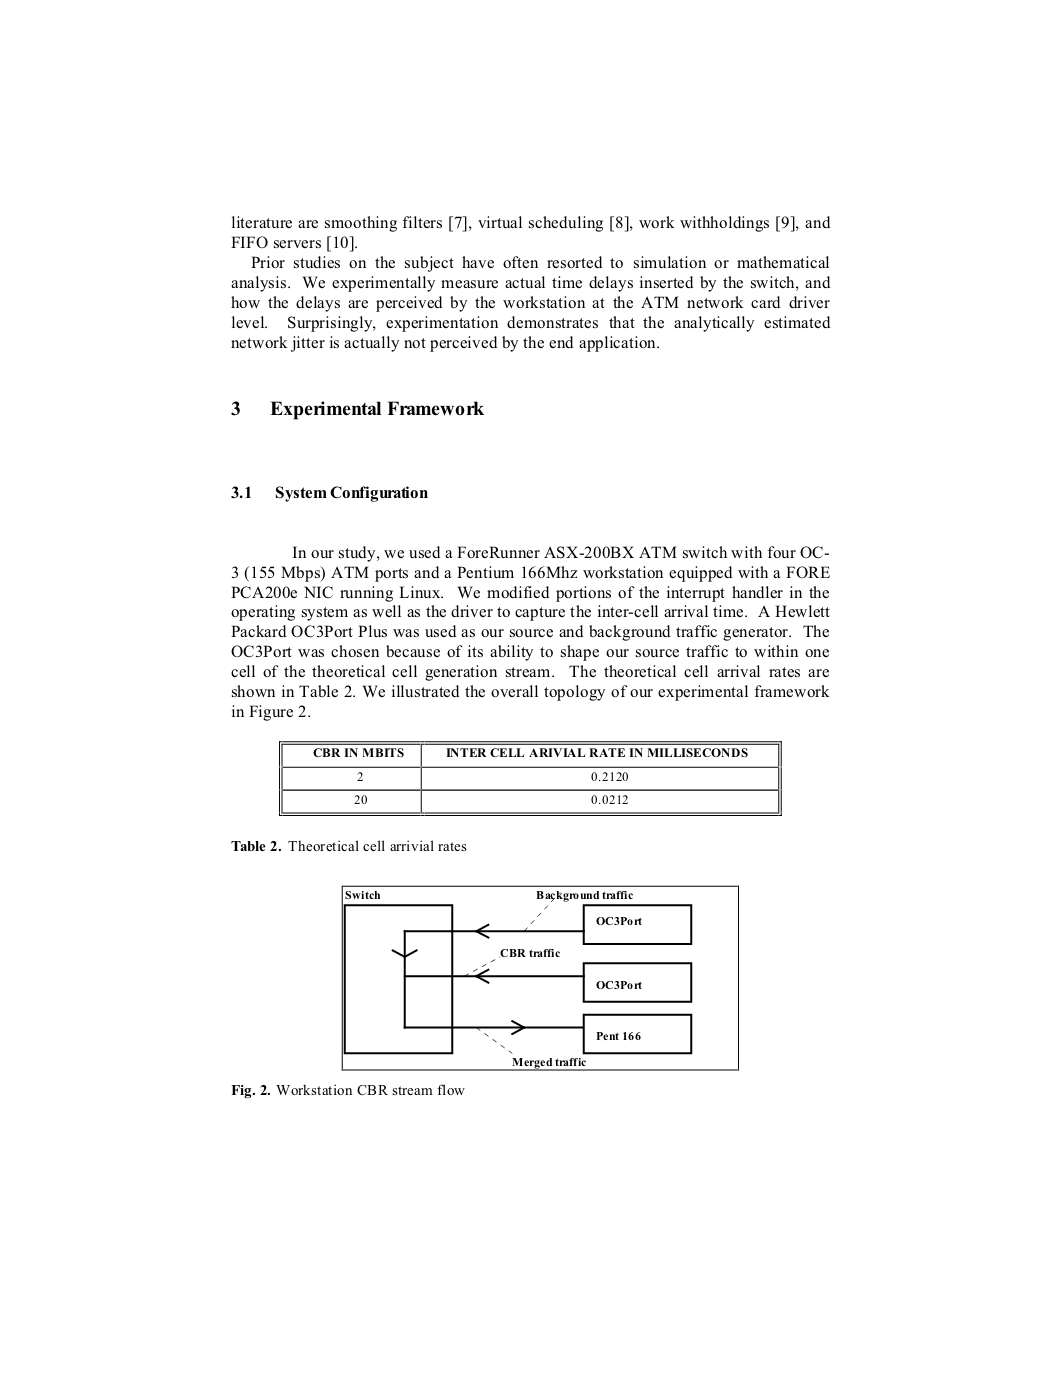Table: (279, 740, 781, 816)
figure: (341, 884, 738, 1071)
